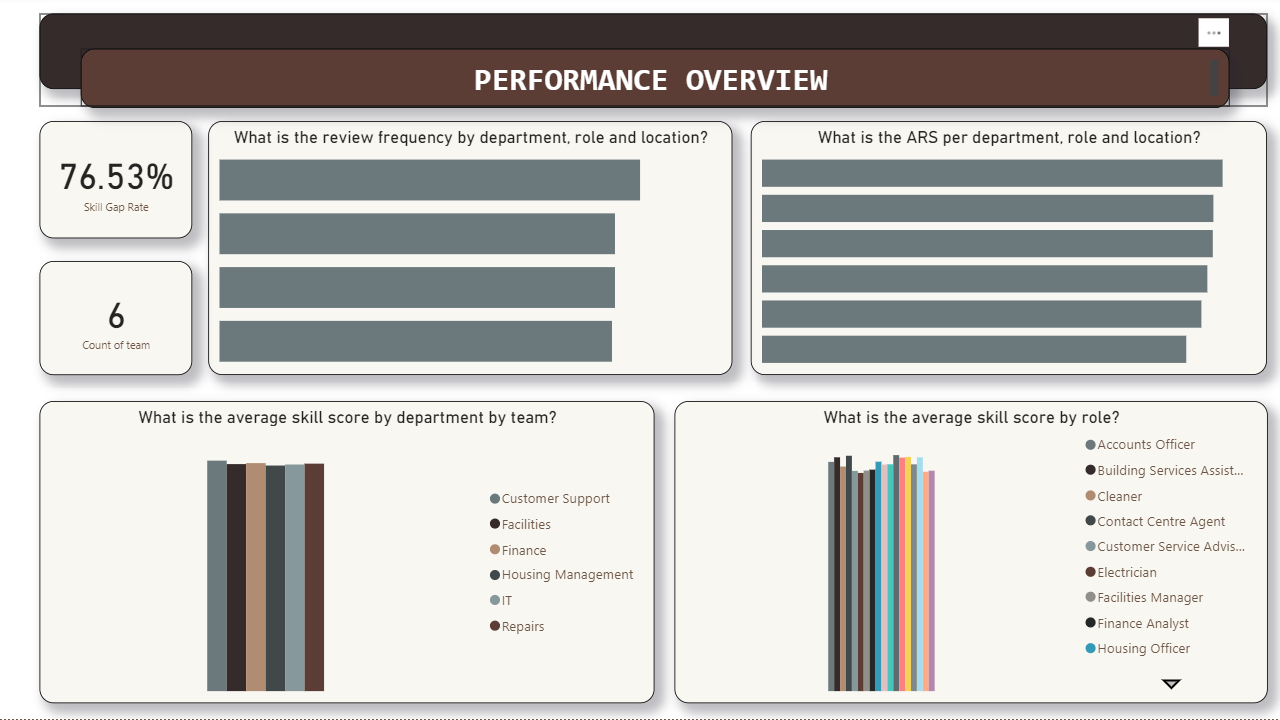

What the dashboard file says about the page in this screenshot:
{"tool":"powerbi","page":{"name":"Performance Overview","canvas":[1280,720],"ordinal":1},"visuals":[{"type":"textbox","box":[42.5,17.8,1221.3,75.5],"z":0,"group":"g1"},{"type":"clusteredBarChart","title":"What is the ARS per department, role and location?","fields":{"Category":["public dim_employee.team","public dim_employee.role","public dim_employee.location"],"Y":["Measure-0.Average Review Score"]},"box":[750.6,124.9,513.2,252.5],"z":0},{"type":"textbox","box":[83.7,52.1,1143.1,59],"z":1000,"group":"g1"},{"type":"clusteredBarChart","title":"What is the review frequency by department, role and location?","fields":{"Category":["public dim_employee.team","public dim_employee.role","public dim_employee.location"],"Y":["Measure-0.Review Frequency"]},"box":[209.9,124.9,521.4,252.5],"z":1000},{"type":"card","fields":{"Values":["Measure-0.Skill Gap Rate"]},"box":[42.5,124.9,152.3,116.6],"z":2000},{"type":"clusteredColumnChart","title":"What is the average skill score by department by team?","fields":{"Y":["Avg(public lms_data.total_skillscore)"],"Series":["public lms_data.team"]},"box":[42.5,403.4,612,300.5],"z":3000},{"type":"clusteredColumnChart","title":"What is the average skill score by role?","fields":{"Y":["Avg(public lms_data.total_skillscore)"],"Series":["public lms_data.role"]},"box":[673.8,403.4,590.1,300.5],"z":4000},{"type":"card","fields":{"Values":["Count(public lms_data.team)"]},"box":[42.5,263.5,152.3,113.9],"z":5000},{"type":"group","id":"g1","title":"Group 1","box":[42.5,17.8,1221.3,93.3],"z":6000}]}

Visuals, with their boxes in screenshot pixels (x1, y1, x2, y2), scaled from the page's 1280x720 canvas onto the 1280x720 screenshot:
textbox: (42, 18, 1264, 93)
"What is the ARS per department, role and location?" clusteredBarChart: (751, 125, 1264, 377)
textbox: (84, 52, 1227, 111)
"What is the review frequency by department, role and location?" clusteredBarChart: (210, 125, 731, 377)
card - Measure-0.Skill Gap Rate: (42, 125, 195, 242)
"What is the average skill score by department by team?" clusteredColumnChart: (42, 403, 654, 704)
"What is the average skill score by role?" clusteredColumnChart: (674, 403, 1264, 704)
card - Count(public lms_data.team): (42, 264, 195, 377)
"Group 1" group: (42, 18, 1264, 111)
